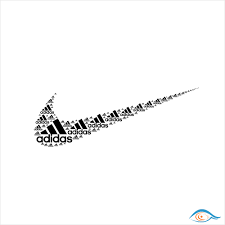nike: (37, 52, 214, 158)
